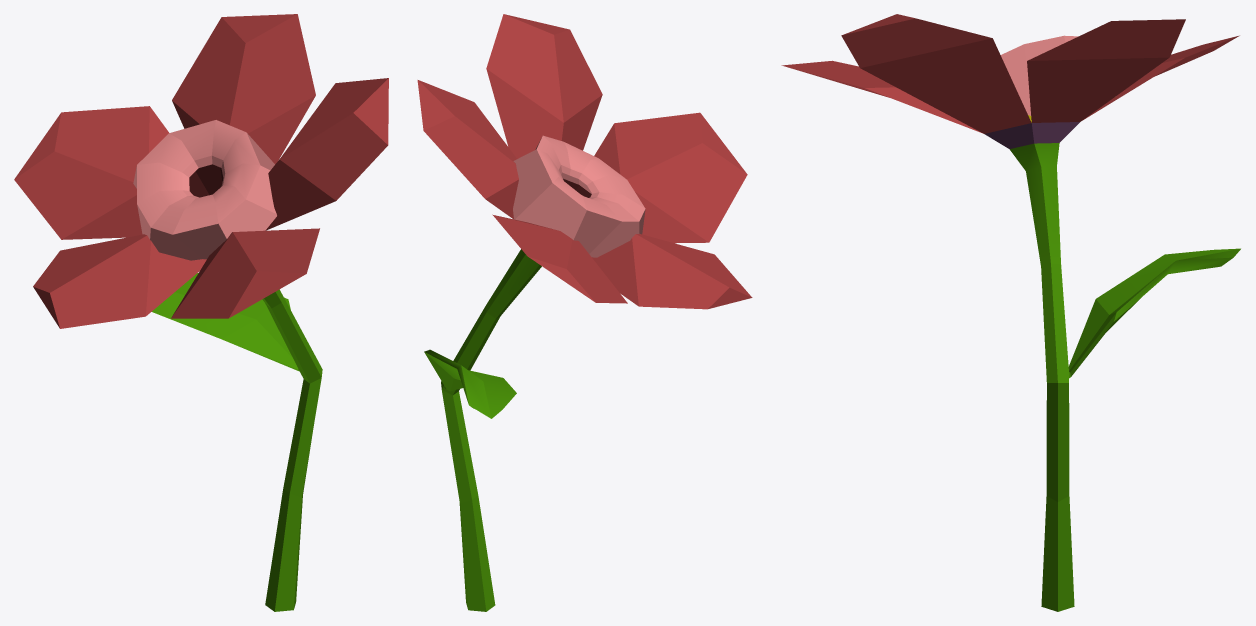
The model's file is fbxREDflowerBigish.fbx.
3 views of the same model, side by side, from view 1: azimuth 30°, elevation 25°; view 2: azimuth 150°, elevation 25°; view 3: azimuth 270°, elevation 25° (orthographic). The views are drawn at different scales.
Parts seen in each view (by area): view 1: pCylinder4; view 2: pCylinder4; view 3: pCylinder4.
Part boxes in pixels (x1,y1,x2,y2): pCylinder4: [14, 14, 388, 611]; pCylinder4: [417, 14, 752, 611]; pCylinder4: [781, 14, 1240, 611].
Size of the model in its own units: 1.42 by 2.6 by 1.79.
